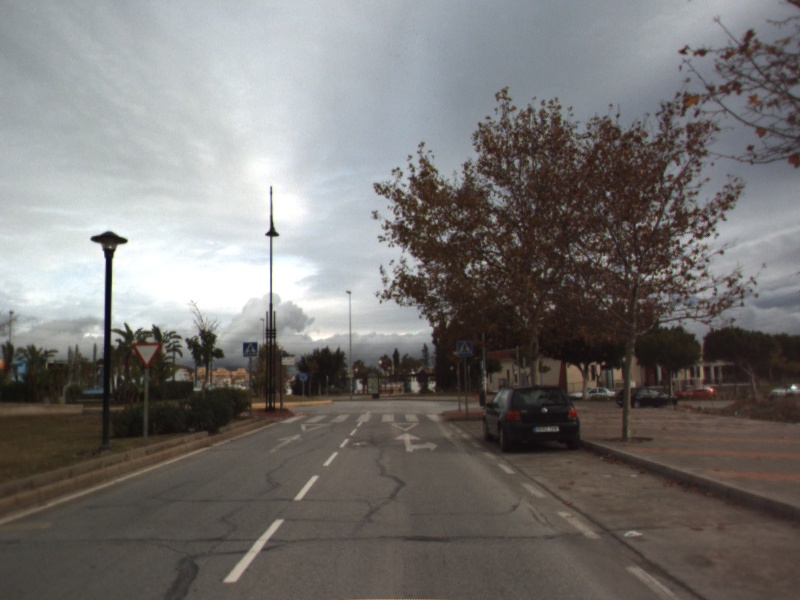STRAIGHT: (266, 432, 305, 455)
STRAIGHT_RIGHT: (391, 431, 441, 454)
